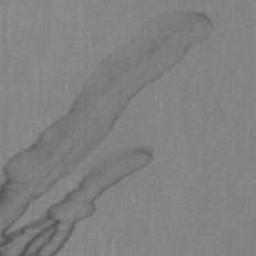Water spot: (0, 9, 215, 256)
